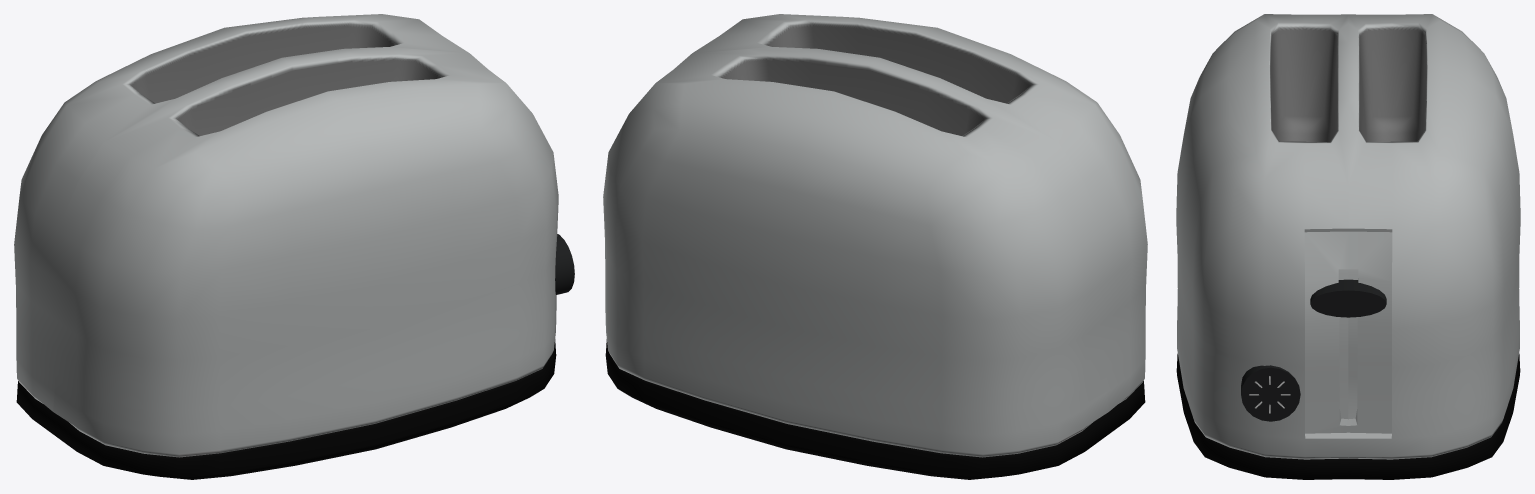
Rendered from toaster.fbx.
The picture shows the model from 3 angles, left to right: view 1: azimuth 30°, elevation 25°; view 2: azimuth 150°, elevation 25°; view 3: azimuth 270°, elevation 25°; orthographic projection. The views are drawn at different scales.
Visible parts, largest first — view 1: toaster; view 2: toaster; view 3: toaster.
Part boxes in pixels (bbox=[...]): toaster: bbox=[14, 14, 574, 479]; toaster: bbox=[603, 14, 1147, 479]; toaster: bbox=[1176, 14, 1520, 479].
Bounding box in the file's own units: 12.23 × 8.06 × 8.09.
